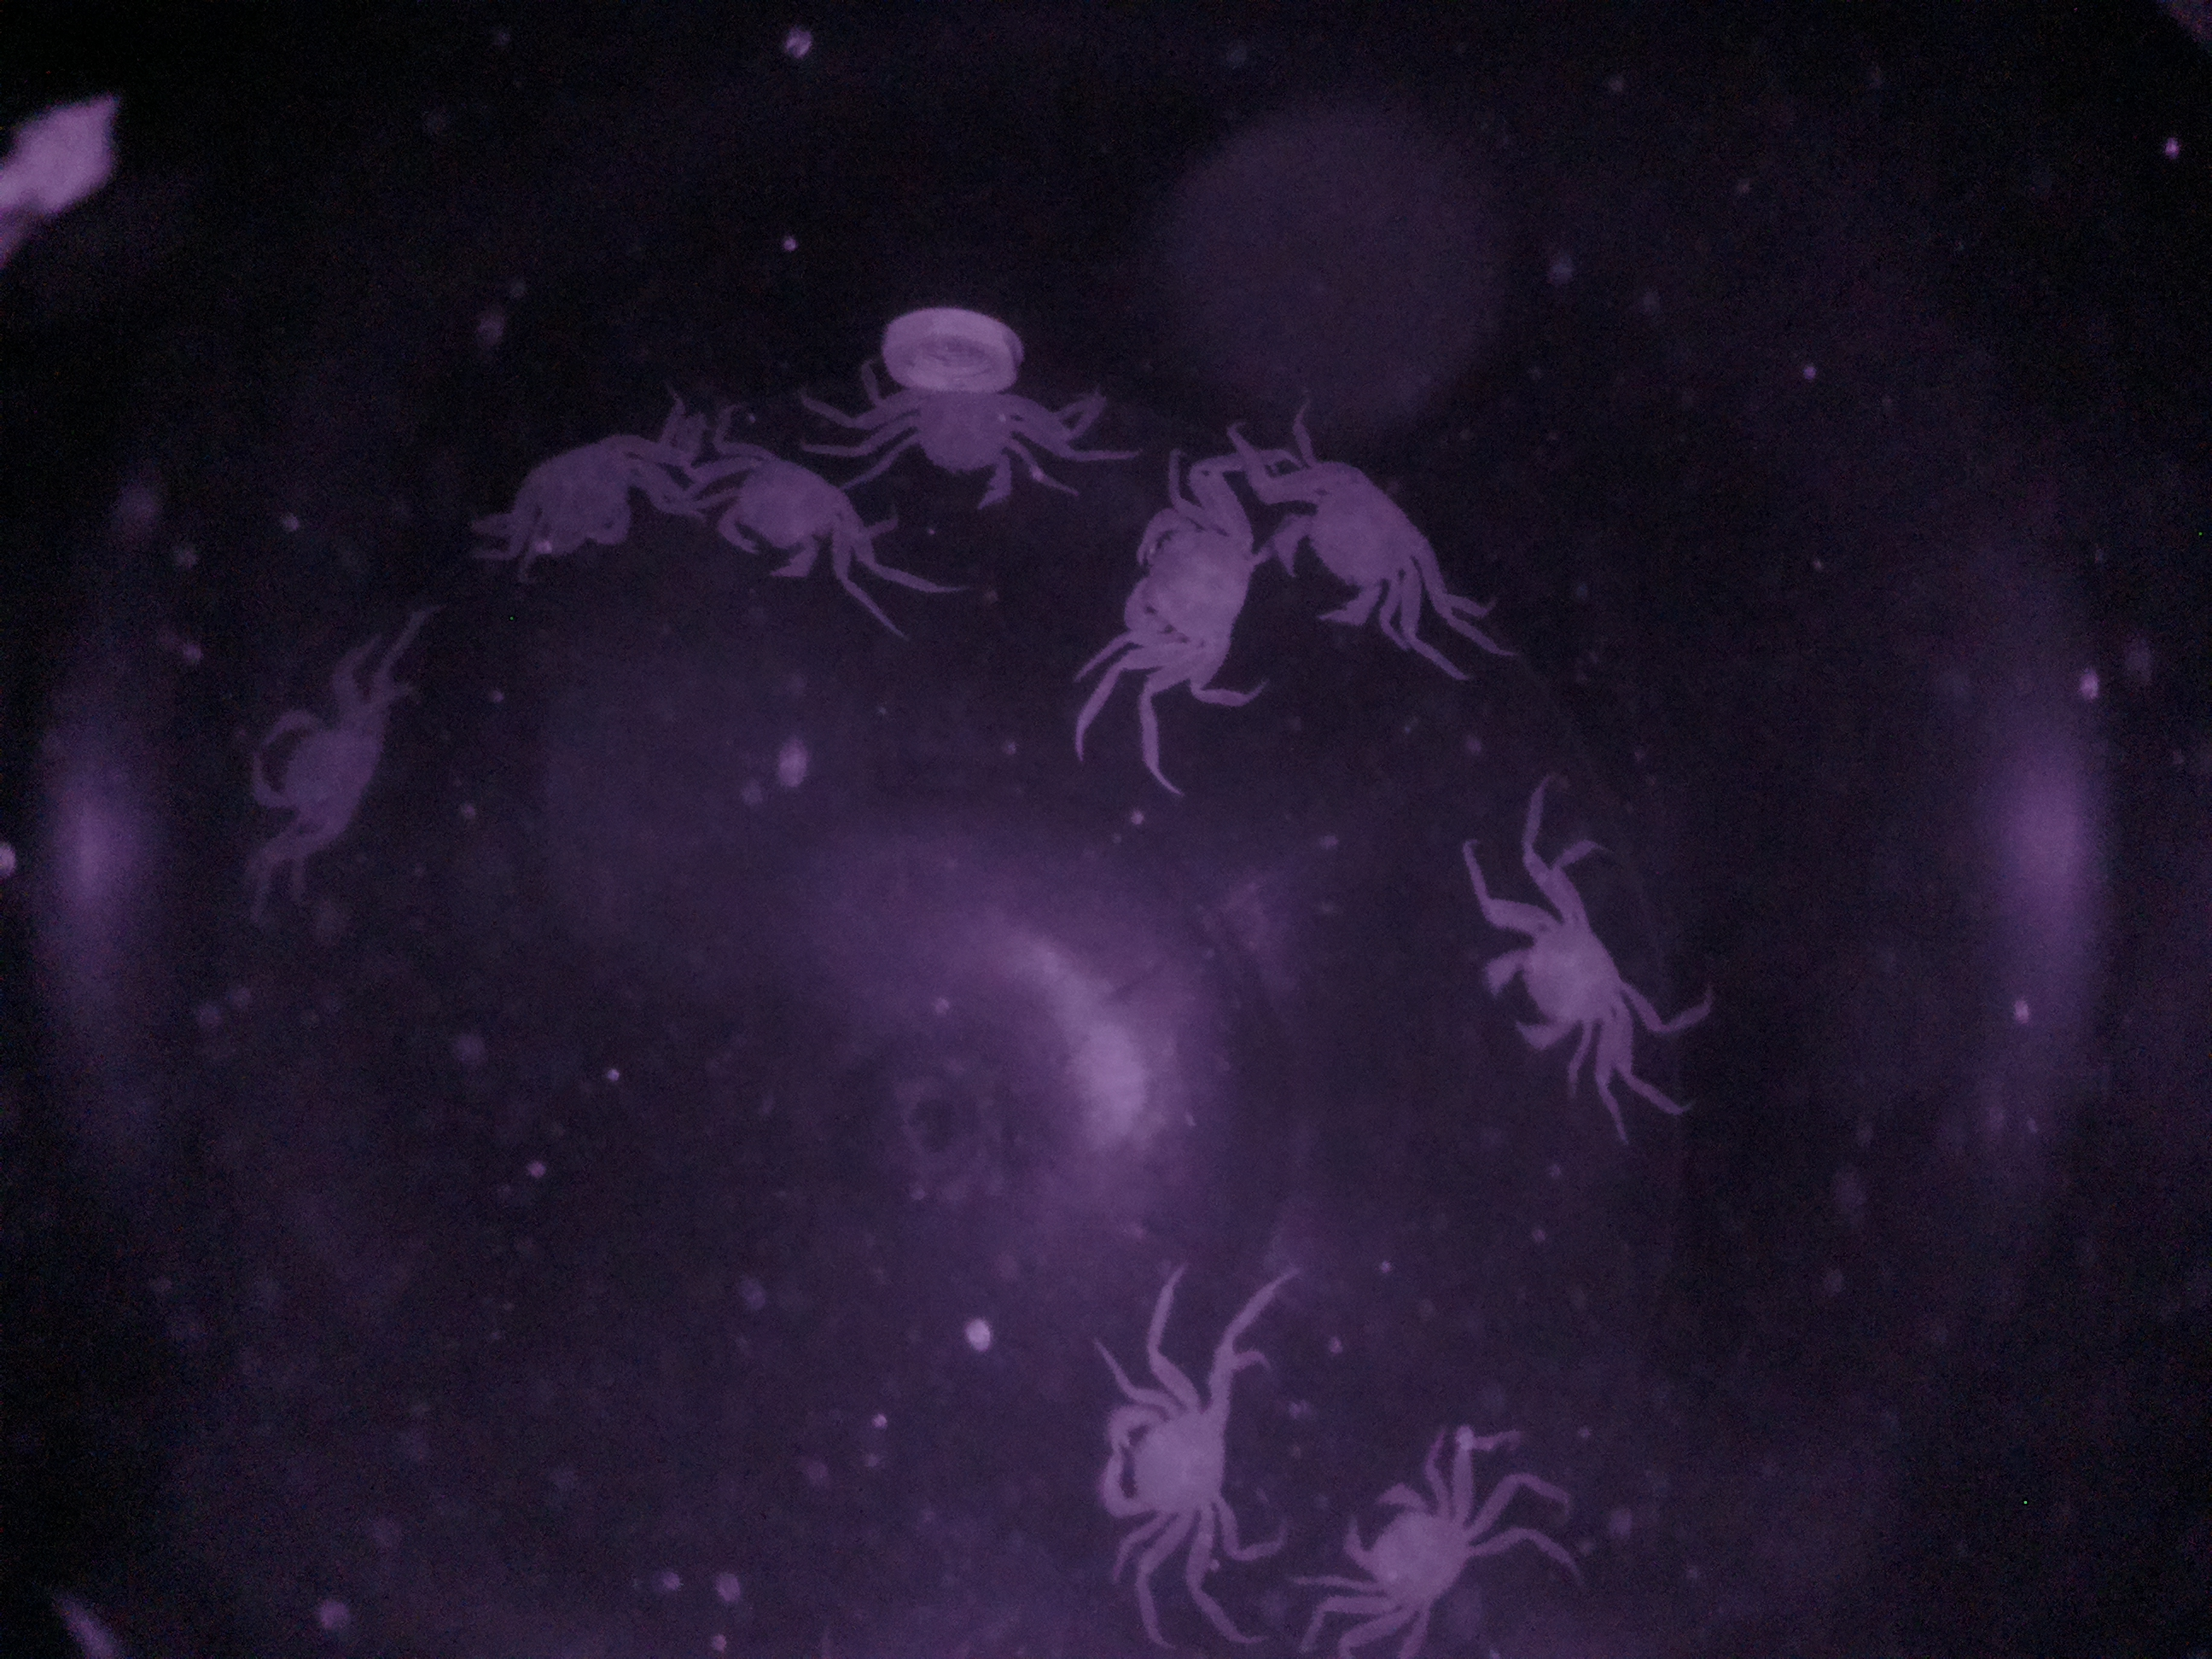Crab: (1456, 856, 1642, 1119), (1256, 420, 1465, 647), (1089, 1328, 1268, 1589), (1096, 450, 1261, 730), (1313, 1453, 1505, 1650), (225, 680, 423, 866), (695, 439, 885, 598)
